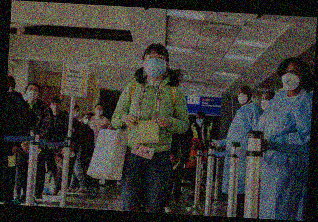with_mask: (143, 52, 168, 78), (282, 66, 301, 92), (26, 87, 40, 101), (237, 90, 249, 106), (260, 97, 272, 112), (94, 106, 105, 118), (49, 102, 61, 112), (82, 116, 91, 126), (196, 116, 205, 126), (73, 109, 81, 119)
without_mask: (191, 142, 198, 150)
